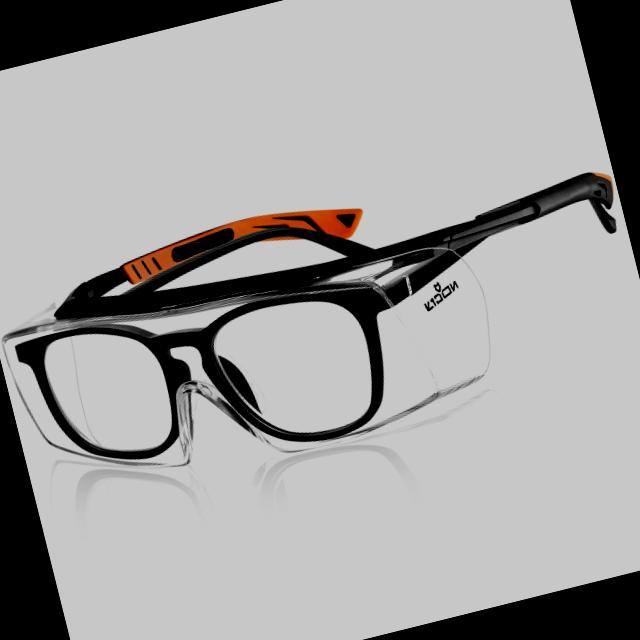goggles: (0, 120, 639, 501)
